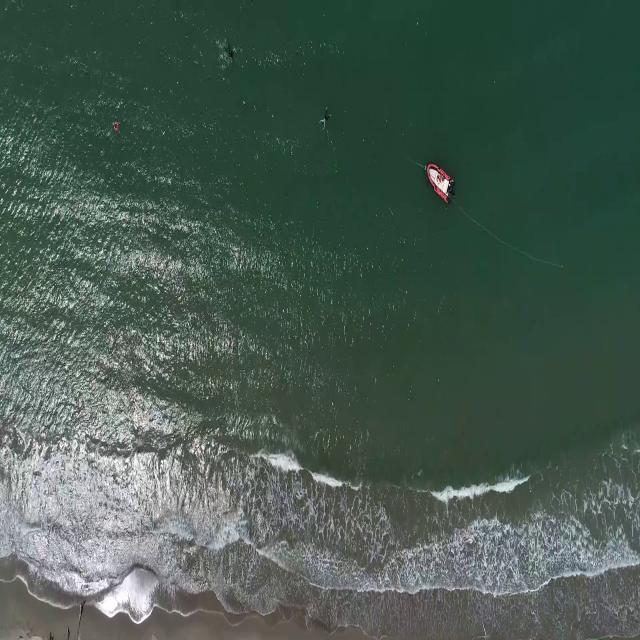boat: (426, 159, 453, 204)
life_buoy: (112, 119, 120, 131)
person: (319, 108, 332, 132), (222, 42, 237, 62)
wood: (68, 596, 86, 640)
